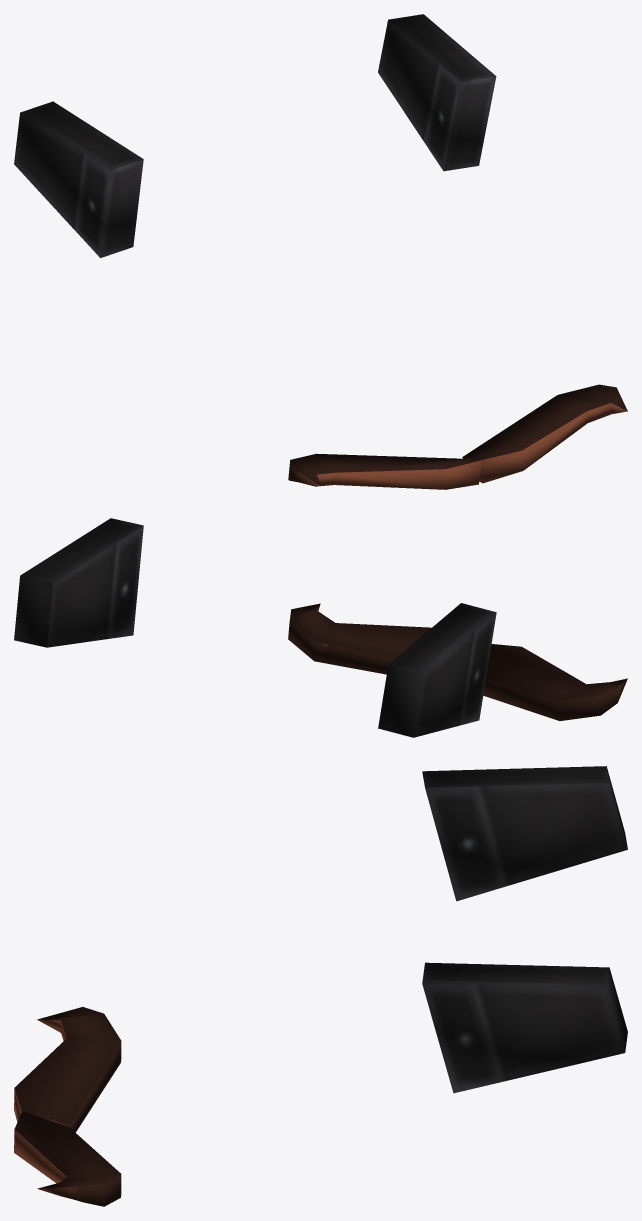
Rendered from Avatar_Cowboy_H_02_2_013e1f05__Avatar_Cowboy_A_01_00423260_c1f257.obj.
The picture shows the model from 3 angles, top to bottom: view 1: azimuth 30°, elevation 25°; view 2: azimuth 150°, elevation 25°; view 3: azimuth 270°, elevation 25°; orthographic projection. The views are drawn at different scales.
Bounding box in the file's own units: 0.7028 × 0.399 × 0.8202.
Materials: 1 (1 with a texture image).
